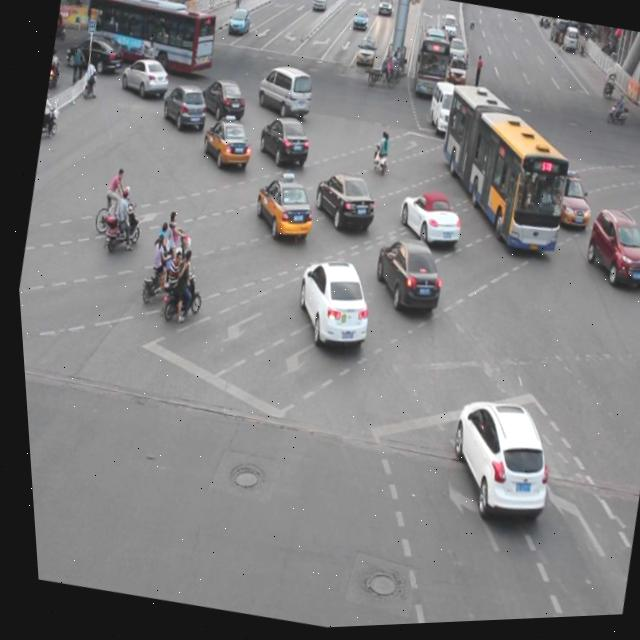car: (431, 393, 555, 529), (283, 252, 376, 356), (362, 234, 446, 321), (575, 207, 640, 299), (305, 168, 379, 240), (247, 173, 316, 246), (388, 188, 464, 254), (539, 170, 595, 237), (196, 115, 254, 174), (252, 114, 311, 171), (157, 80, 210, 135), (118, 53, 173, 101), (195, 74, 247, 124)
truck: (250, 62, 315, 120)
van: (418, 82, 581, 264), (79, 0, 221, 77)
